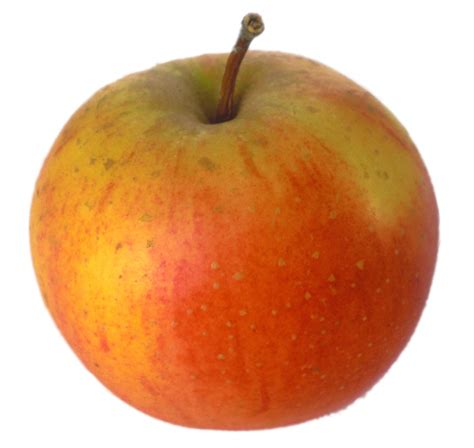apple: (19, 32, 450, 437)
